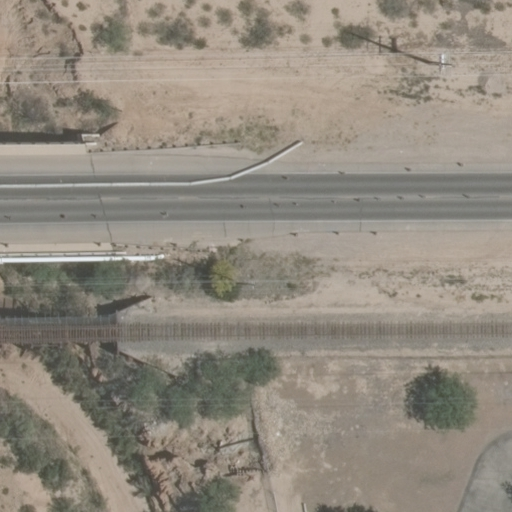DT: (426, 52, 453, 72)
